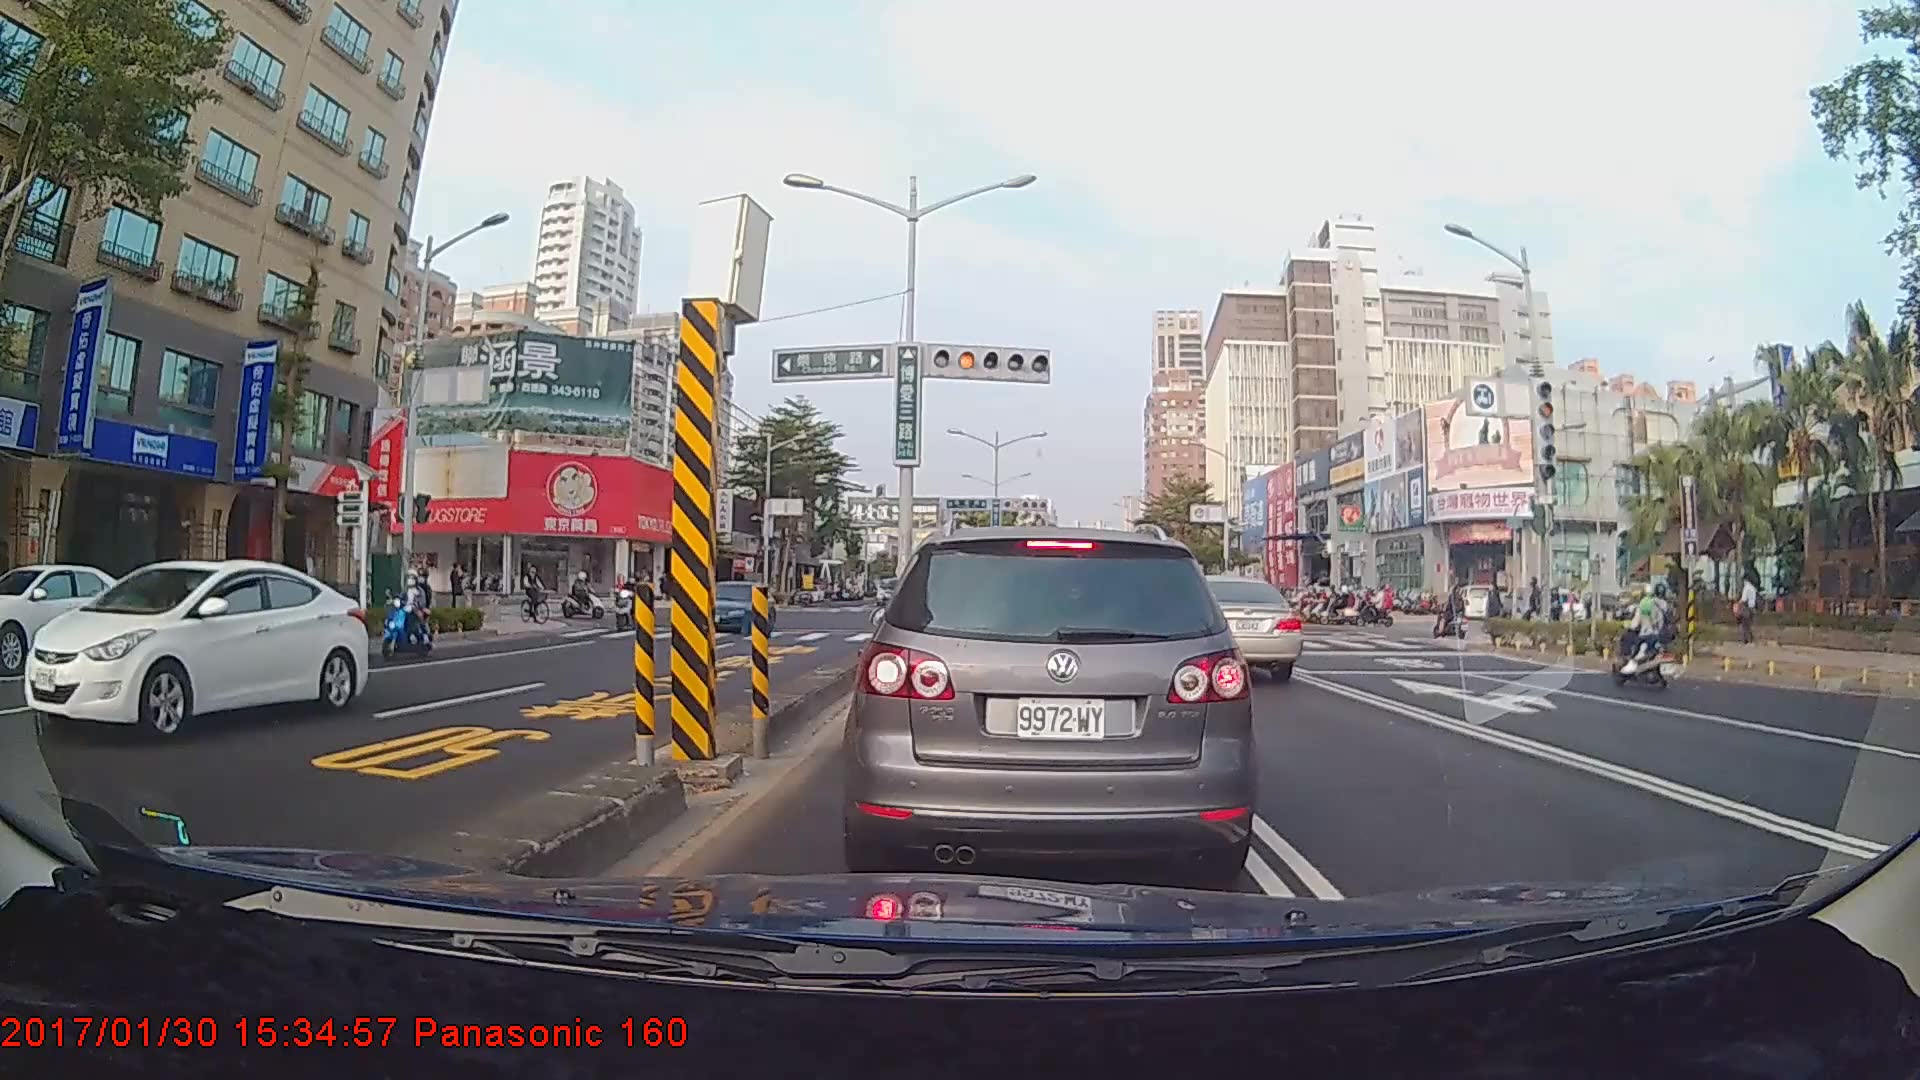pedestrian: (1737, 576, 1761, 643), (447, 563, 467, 620)
rider: (1609, 579, 1687, 694), (392, 574, 442, 658), (562, 566, 609, 619), (1435, 584, 1473, 640), (522, 566, 551, 627)
vehicle: (845, 508, 1255, 872), (28, 556, 366, 733), (0, 564, 158, 677), (1158, 576, 1302, 678), (692, 581, 777, 633)
